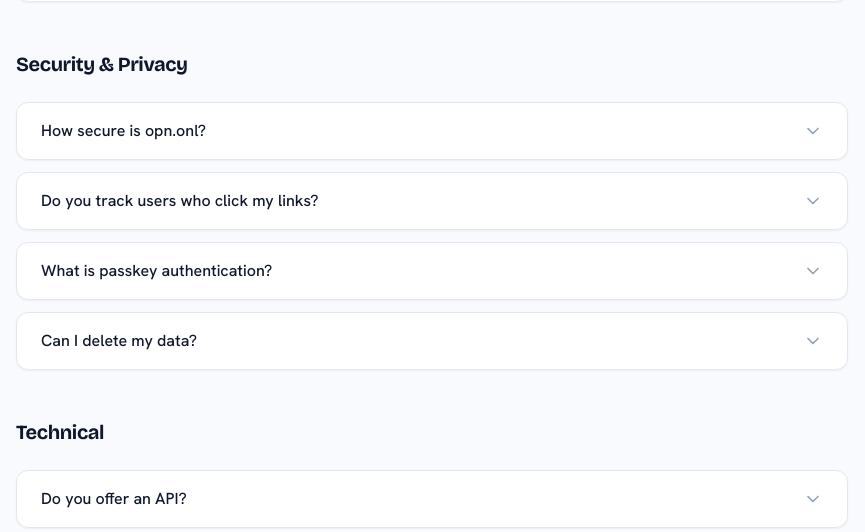
Test: FAQ › quotes the operator's purge window for a deleted link
(page scrolled)
Click the button "Can I delete my data?". click: (119, 340)
box: 17,313 -> 847,369
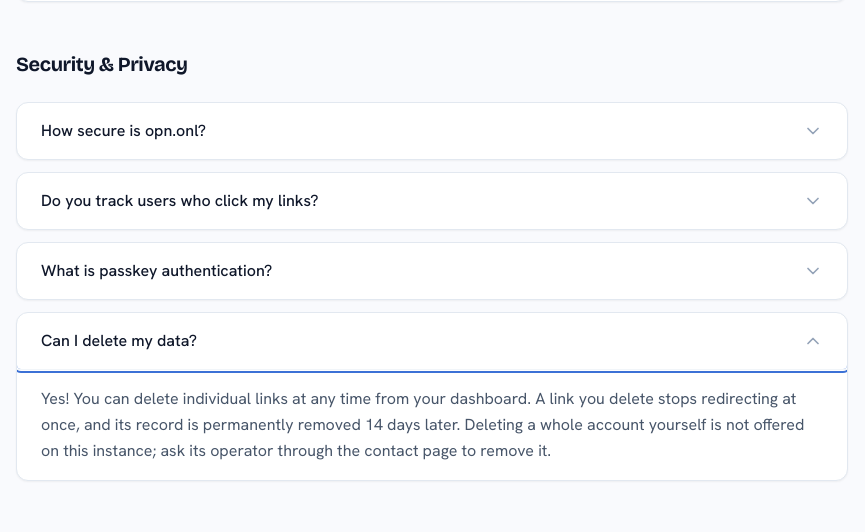
Expected: the text "stops redirecting at once" does not show "30 days", 17,369 -> 847,480
Now the text "stops redirecting at once" shows "permanently removed 14 days later", box 41,388 -> 804,461
